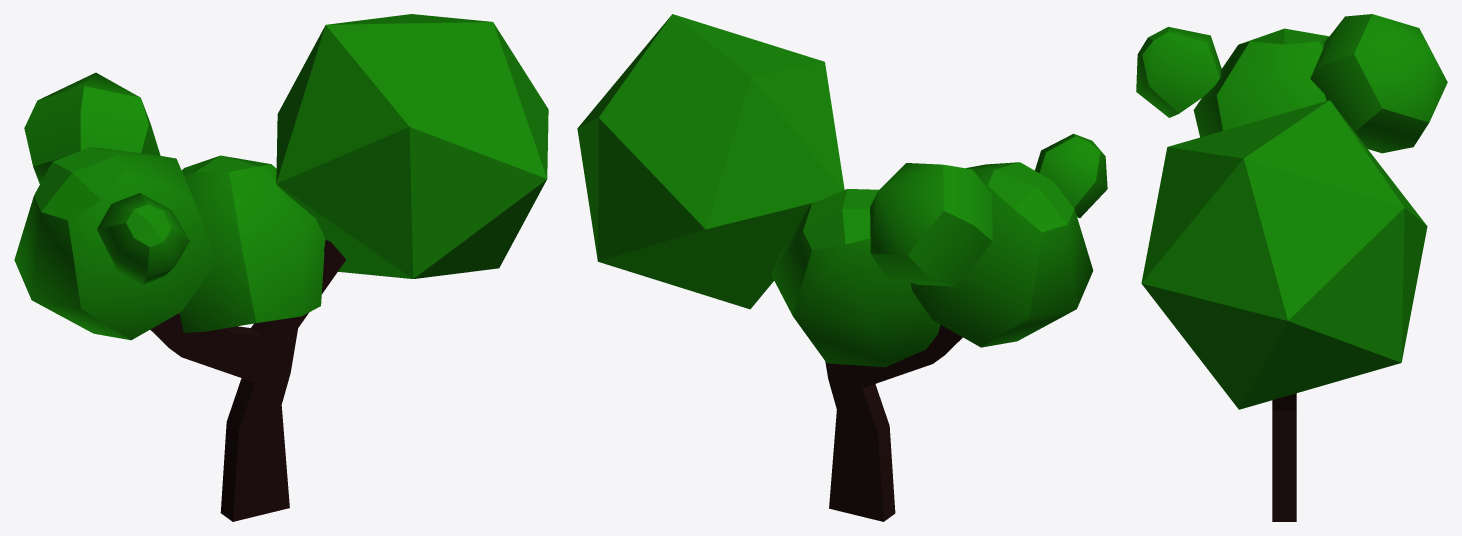
Rendered from tree8.FBX.
The picture shows the model from 3 angles, left to right: view 1: azimuth 30°, elevation 25°; view 2: azimuth 150°, elevation 25°; view 3: azimuth 270°, elevation 25°; orthographic projection. The views are drawn at different scales.
Parts seen in each view (by area): view 1: Tree8; view 2: Tree8; view 3: Tree8.
Boxes of the visible parts, bbox=[...] form: Tree8: bbox=[14, 14, 548, 521]; Tree8: bbox=[577, 14, 1107, 521]; Tree8: bbox=[1136, 14, 1447, 521].
Bounding box in the file's own units: 165 × 137 × 84.52.
